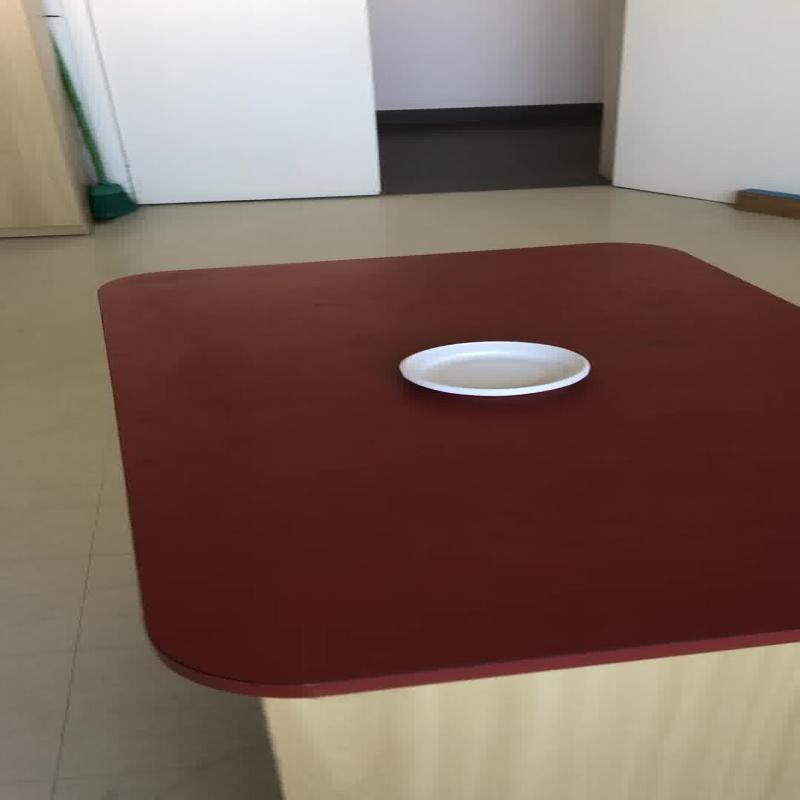plate: (396, 340, 590, 397)
